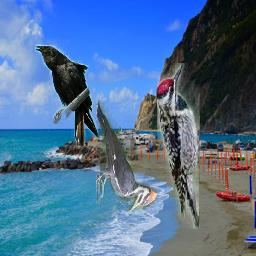Crow: (36, 45, 99, 148)
Woodpecker: (158, 63, 201, 229), (97, 101, 158, 212)
